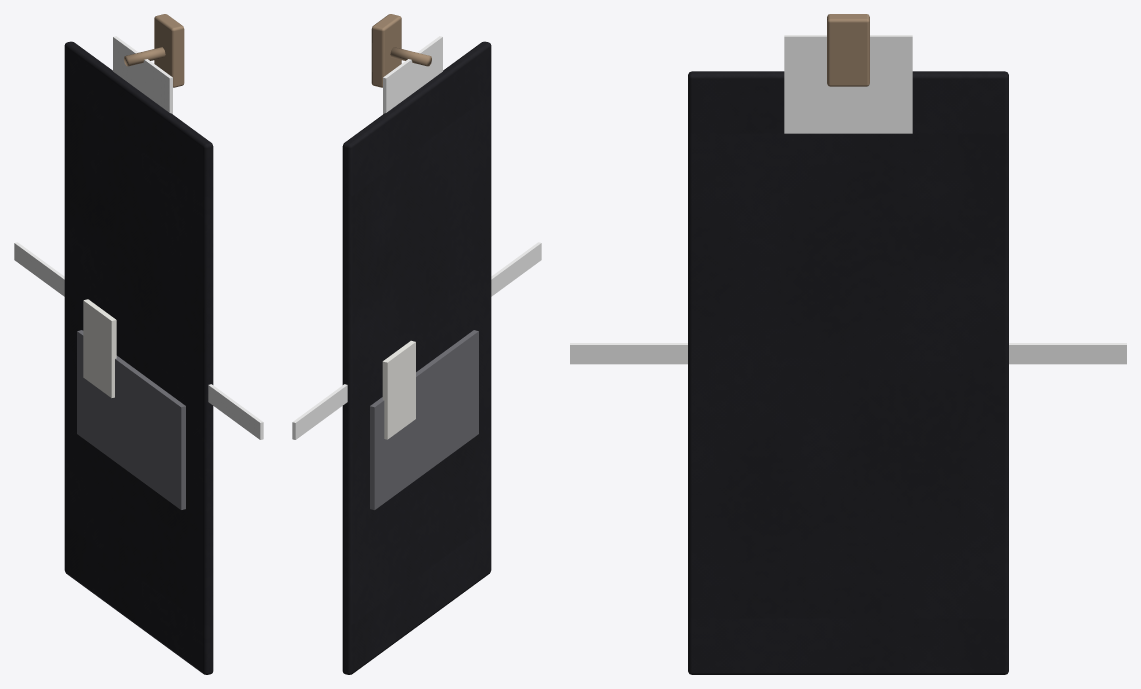
The model's file is escena.casa.delantal_garzon.fbx.
3 views of the same model, side by side, from view 1: azimuth 30°, elevation 25°; view 2: azimuth 150°, elevation 25°; view 3: azimuth 270°, elevation 25° (orthographic). The views are drawn at different scales.
Visible parts, largest first — view 1: Delantal, Bolsillo, Libreta de comandas, Tira del cuello, Placa del gancho, Amarra.001, Amarra, Gancho; view 2: Delantal, Bolsillo, Libreta de comandas, Tira del cuello, Placa del gancho, Amarra, Amarra.001, Gancho; view 3: Delantal, Tira del cuello, Placa del gancho, Amarra, Amarra.001.
Boxes of the visible parts, box(x1,y1,x2,y2) form: Delantal: box(64, 41, 213, 674); Bolsillo: box(77, 330, 185, 509); Libreta de comandas: box(83, 299, 116, 397); Tira del cuello: box(113, 36, 172, 114); Placa del gancho: box(154, 14, 184, 87); Amarra.001: box(208, 384, 263, 439); Amarra: box(14, 242, 64, 296); Gancho: box(124, 47, 165, 66); Delantal: box(342, 41, 491, 674); Bolsillo: box(370, 330, 478, 509); Libreta de comandas: box(382, 340, 415, 439); Tira del cuello: box(383, 36, 442, 114); Placa del gancho: box(371, 14, 401, 87); Amarra: box(292, 384, 347, 439); Amarra.001: box(491, 242, 541, 296); Gancho: box(390, 47, 431, 66); Delantal: box(688, 71, 1008, 674); Tira del cuello: box(784, 35, 912, 133); Placa del gancho: box(827, 14, 869, 86); Amarra: box(1009, 343, 1126, 364); Amarra.001: box(570, 343, 687, 364).
Size of the model in its own units: 0.061 by 0.695 by 0.52.
5 materials, 1 textured.
